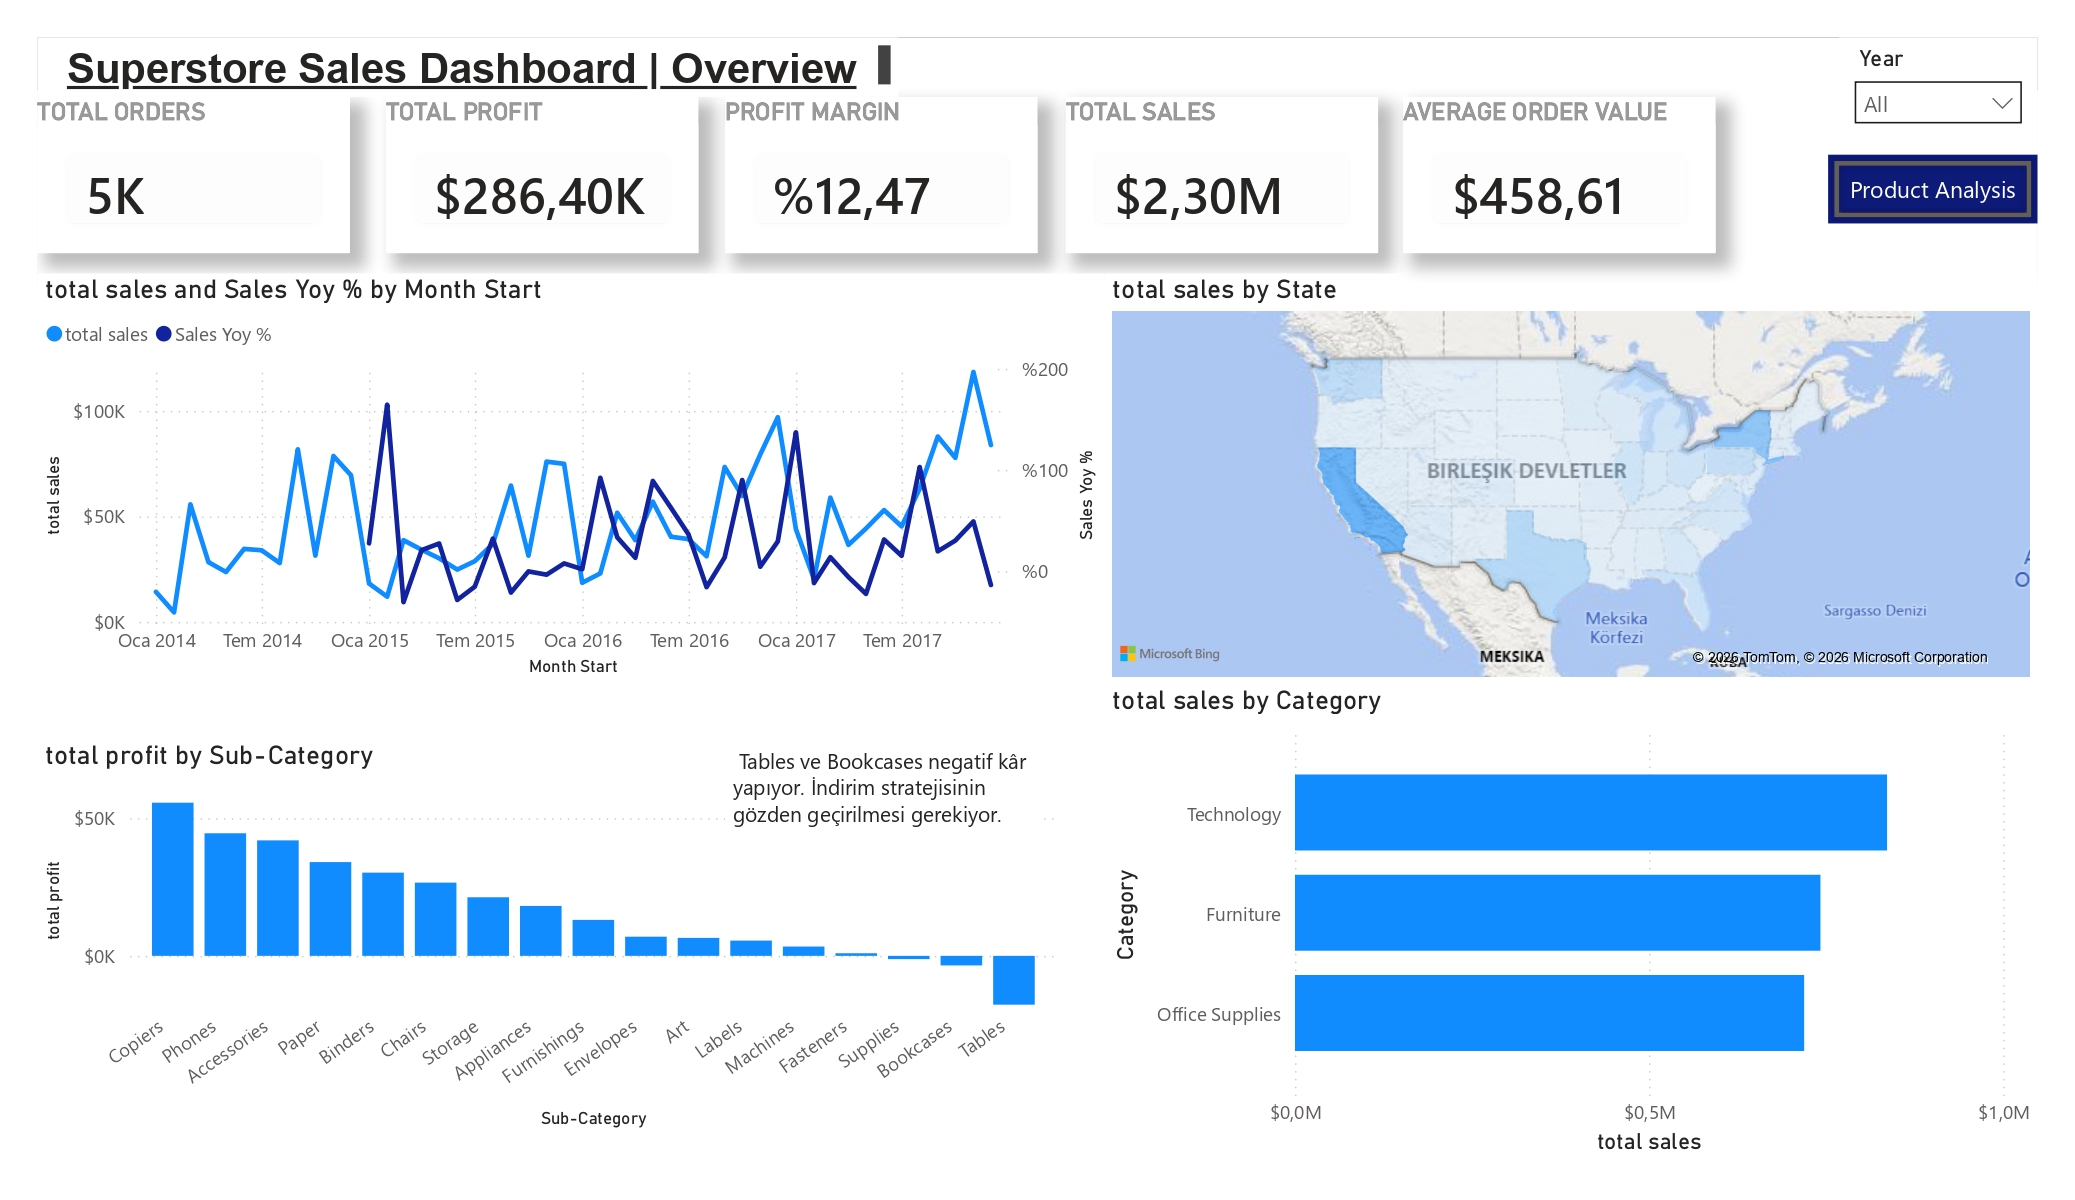

The page's visual inventory and layout, read from the dashboard file:
{"tool":"powerbi","page":{"name":"Overview","canvas":[1280,720],"ordinal":0},"visuals":[{"type":"cardVisual","title":"TOTAL SALES","fields":{"Data":["DimDate.#total sales"]},"box":[657.8,37.8,200,100],"z":0},{"type":"cardVisual","title":"TOTAL PROFIT","fields":{"Data":["DimDate.#total profit"]},"box":[223.3,37.8,200,100],"z":1000},{"type":"cardVisual","title":"PROFIT MARGIN","fields":{"Data":["DimDate.#profit margin"]},"box":[440,37.8,200,100],"z":2000},{"type":"cardVisual","title":"TOTAL ORDERS","fields":{"Data":["DimDate.#total orders"]},"box":[0,37.8,200,100],"z":3000},{"type":"lineChart","fields":{"Y":["DimDate.#total sales"],"Y2":["DimDate.Sales Yoy %"],"Category":["DimDate.Month Start"]},"box":[0,151.4,682.9,262.9],"z":4000},{"type":"slicer","fields":{"Values":["DimDate.Year"]},"box":[1152.5,0,127.5,75],"z":5000},{"type":"clusteredBarChart","fields":{"Category":["fact_orders.Category"],"Y":["DimDate.#total sales"]},"box":[682.9,414.3,597.1,305.7],"z":6000},{"type":"textbox","box":[0,0,551.2,37.5],"z":7000},{"type":"filledMap","fields":{"Category":["fact_orders.State"]},"box":[682.9,151.4,597.1,262.9],"z":8000},{"type":"clusteredColumnChart","fields":{"Category":["fact_orders.Sub-Category"],"Y":["DimDate.total profit"]},"box":[0,448.6,657.1,254.3],"z":9000},{"type":"cardVisual","title":"AVERAGE ORDER VALUE","fields":{"Data":["DimDate.average order value"]},"box":[874.4,37.8,200,100],"z":9001},{"type":"textbox","box":[440,448.8,202.5,63.8],"z":9003},{"type":"actionButton","box":[1146.2,75,133.8,43.8],"z":9004}]}

Visuals, with their boxes on the page's 1280x720 design canvas (x1, y1, x2, y2). These are canvas units, not pixel positions in the 2075x1200 screenshot, which may show the page scaled, cropped or inside an application window:
"TOTAL SALES" cardVisual: 658:38:858:138
"TOTAL PROFIT" cardVisual: 223:38:423:138
"PROFIT MARGIN" cardVisual: 440:38:640:138
"TOTAL ORDERS" cardVisual: 0:38:200:138
lineChart - DimDate.#total sales x DimDate.Sales Yoy %: 0:151:683:414
slicer - DimDate.Year: 1152:0:1280:75
clusteredBarChart - fact_orders.Category x DimDate.#total sales: 683:414:1280:720
textbox: 0:0:551:38
filledMap - fact_orders.State: 683:151:1280:414
clusteredColumnChart - fact_orders.Sub-Category x DimDate.total profit: 0:449:657:703
"AVERAGE ORDER VALUE" cardVisual: 874:38:1074:138
textbox: 440:449:642:513
actionButton: 1146:75:1280:119
